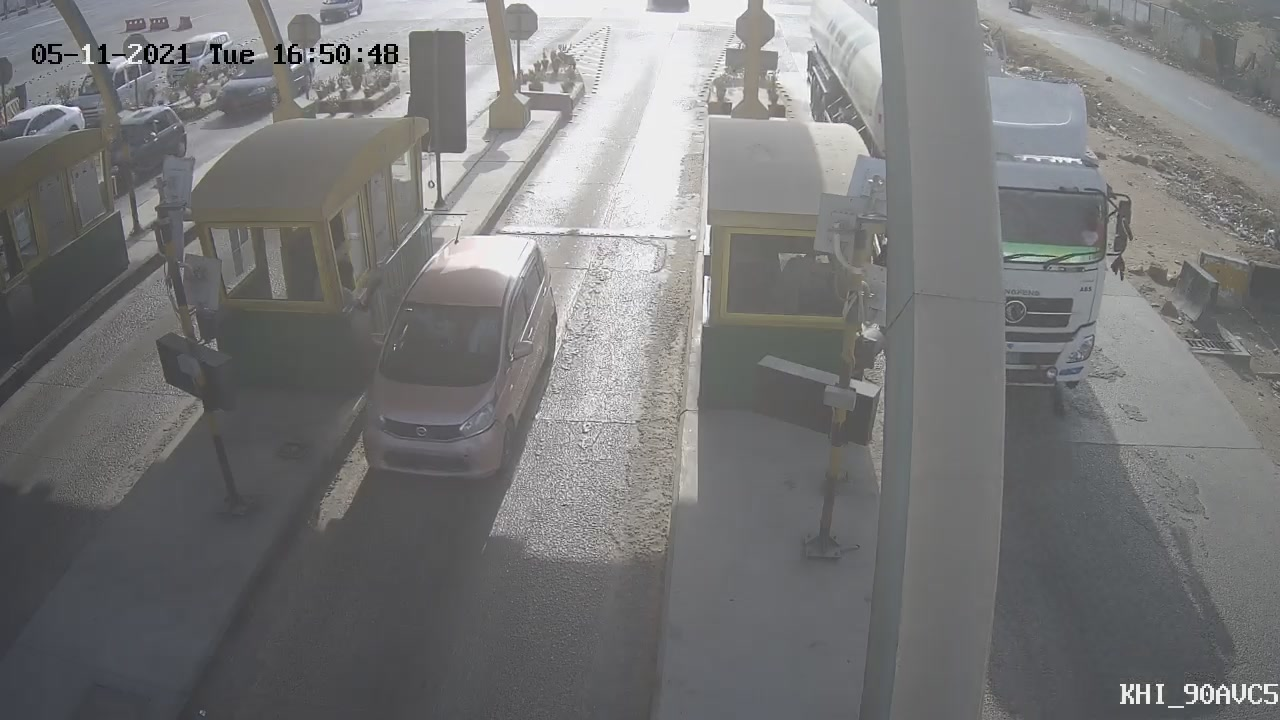F1: (340, 214, 578, 500)
